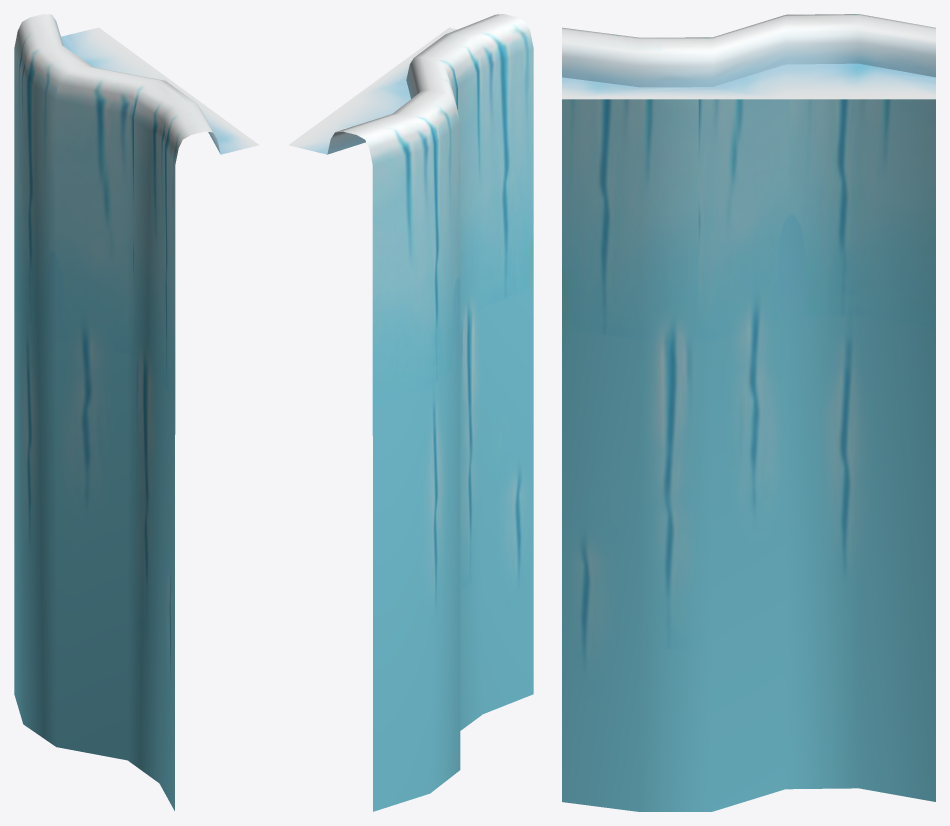
The model's file is High_Dike_2.FBX.
The picture shows the model from 3 angles, left to right: view 1: azimuth 30°, elevation 25°; view 2: azimuth 150°, elevation 25°; view 3: azimuth 270°, elevation 25°; orthographic projection. The views are drawn at different scales.
Visible parts, largest first — view 1: Object292; view 2: Object292; view 3: Object292.
Boxes of the visible parts, x1,y1,x2,y2 form: Object292: [14, 14, 259, 810]; Object292: [288, 14, 533, 811]; Object292: [562, 14, 935, 811].
Size of the model in its own units: 156 by 923 by 400.
